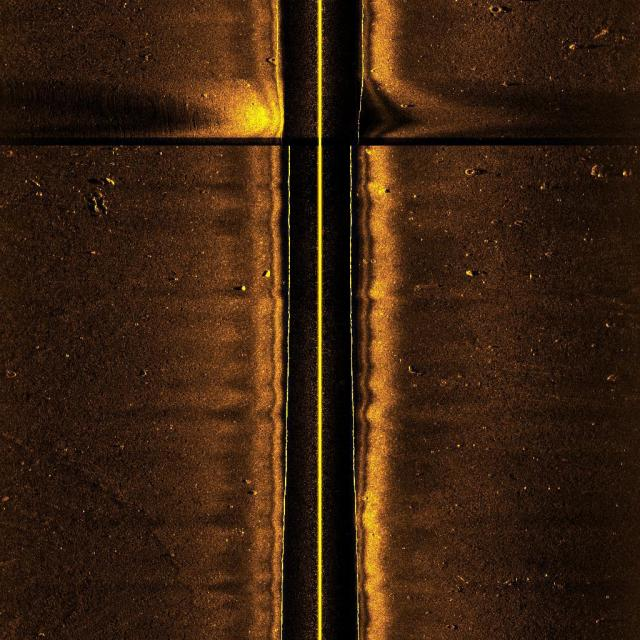mine: (233, 281, 251, 297), (260, 267, 278, 279)
other: (460, 164, 486, 181)
